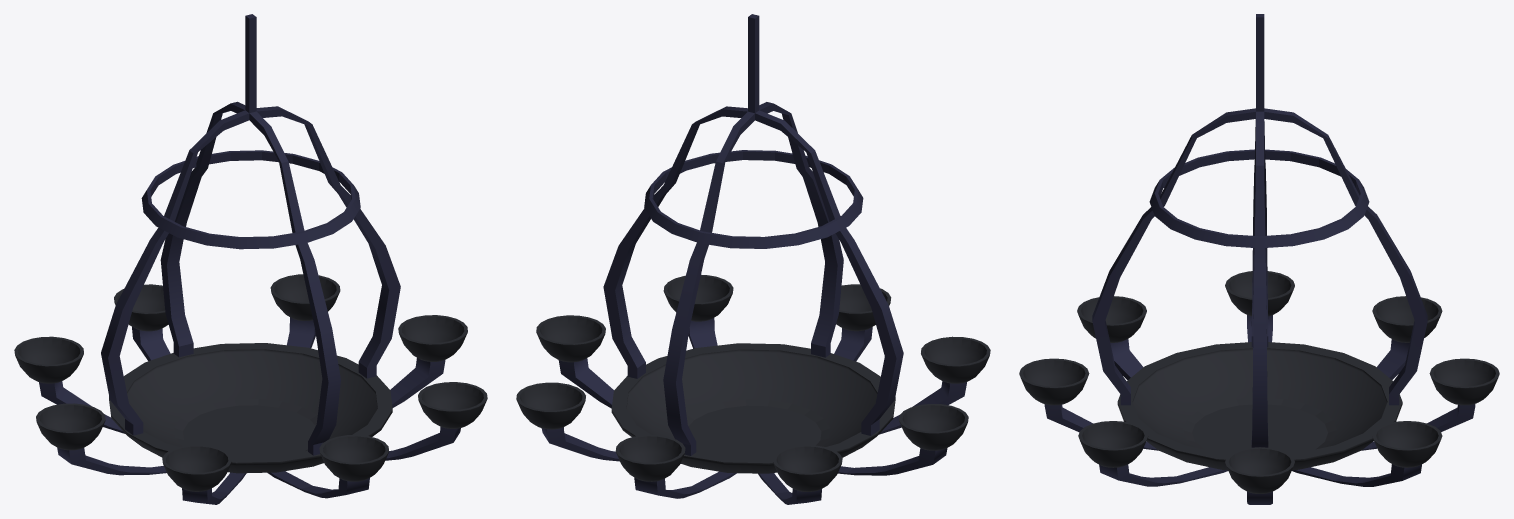
Rendered from kroonluchter.fbx.
The picture shows the model from 3 angles, left to right: view 1: azimuth 30°, elevation 25°; view 2: azimuth 150°, elevation 25°; view 3: azimuth 270°, elevation 25°; orthographic projection.
Visible parts, largest first — view 1: groter_bakje, pCube6, pCylinder2, pCube7, pCube8, pCylinder3, pCylinder7, pCylinder4, pCylinder8, pCylinder10, pCylinder6, pCylinder9 (+1 smaller); view 2: groter_bakje, pCube6, pCylinder2, pCube7, pCube8, pCylinder9, pCylinder4, pCylinder8, pCylinder3, pCylinder7, pCylinder5, pCylinder10 (+1 smaller); view 3: groter_bakje, pCube6, pCylinder2, pCube8, pCylinder5, pCylinder6, pCylinder4, pCylinder10, pCylinder9, pCube7, pCylinder8, pCylinder7 (+1 smaller).
Boxes of the visible parts, x1,y1,x2,y2 form: groter_bakje: (109,343,392,473); pCube6: (101,14,400,455); pCylinder2: (141,150,360,249); pCube7: (57,327,445,498); pCube8: (39,317,460,504); pCylinder3: (36,403,105,450); pCylinder7: (162,445,231,491); pCylinder4: (398,315,467,361); pCylinder8: (14,336,83,383); pCylinder10: (418,382,487,428); pCylinder6: (319,435,388,481); pCylinder9: (270,274,340,320); groter_bakje: (611,343,895,473); pCube6: (603,14,903,455); pCylinder2: (644,150,863,248); pCube7: (558,327,947,498); pCube8: (541,318,966,504); pCylinder9: (516,382,585,429); pCylinder4: (536,315,605,362); pCylinder8: (773,445,842,491); pCylinder3: (899,404,968,450); pCylinder7: (921,336,990,383); pCylinder5: (615,435,685,481); pCylinder10: (663,274,733,321); groter_bakje: (1117,342,1402,470); pCube6: (1092,14,1427,447); pCylinder2: (1149,149,1369,248); pCube8: (1099,339,1421,486); pCylinder5: (1429,358,1499,405); pCylinder6: (1019,358,1089,405); pCylinder4: (1225,447,1294,493); pCylinder10: (1078,421,1148,467); pCylinder9: (1372,421,1442,467); pCube7: (1044,315,1475,504); pCylinder8: (1372,296,1442,342); pCylinder7: (1077,296,1146,342).
Bounding box in the file's own units: 8.65 × 8.58 × 8.52.
